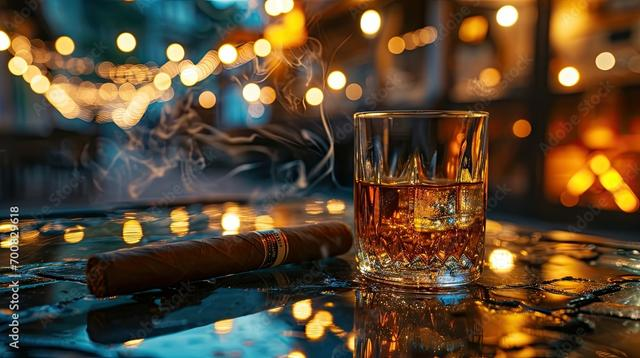Cigar: (84, 219, 353, 298)
